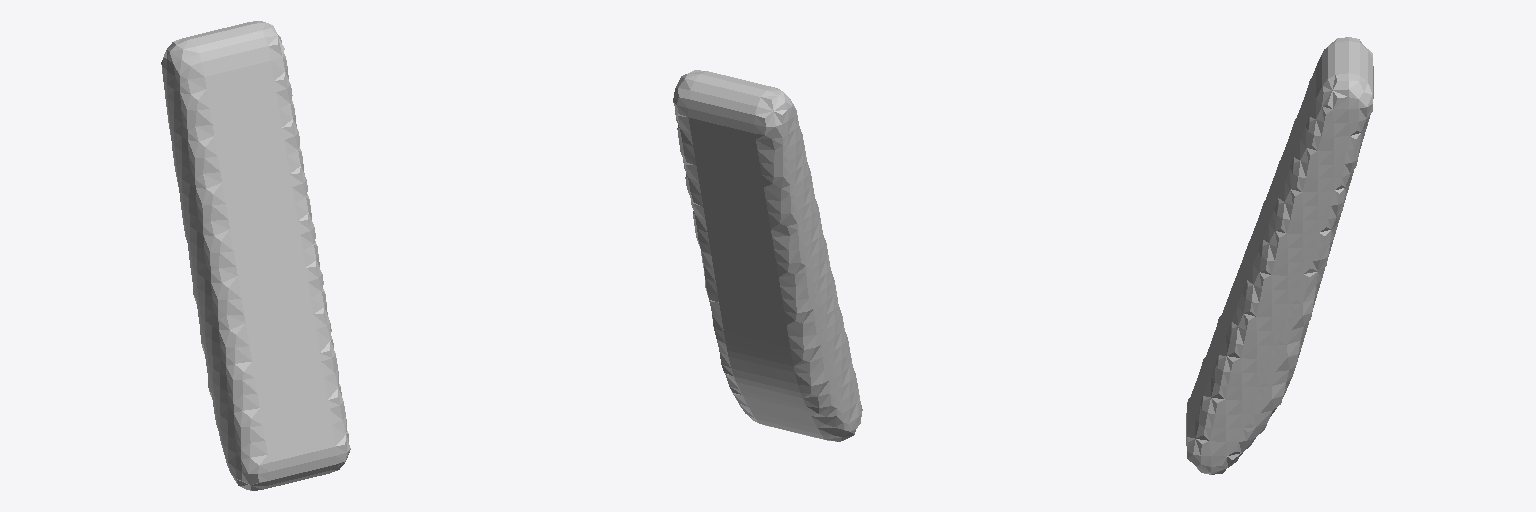
The model's file is right_outer_finger_collisions_mesh_0.obj.
3 renders of one model, left to right at view 1: azimuth 30°, elevation 25°; view 2: azimuth 150°, elevation 25°; view 3: azimuth 270°, elevation 25°, orthographic.
Visible parts, largest first — view 1: right_outer_finger_collisions_mesh_0; view 2: right_outer_finger_collisions_mesh_0; view 3: right_outer_finger_collisions_mesh_0.
Boxes of the visible parts, <box> form: right_outer_finger_collisions_mesh_0: <box>161,21,350,490</box>; right_outer_finger_collisions_mesh_0: <box>673,70,862,441</box>; right_outer_finger_collisions_mesh_0: <box>1186,37,1373,474</box>.
Size of the model in its own units: 0.027 by 0.0931 by 0.0397.